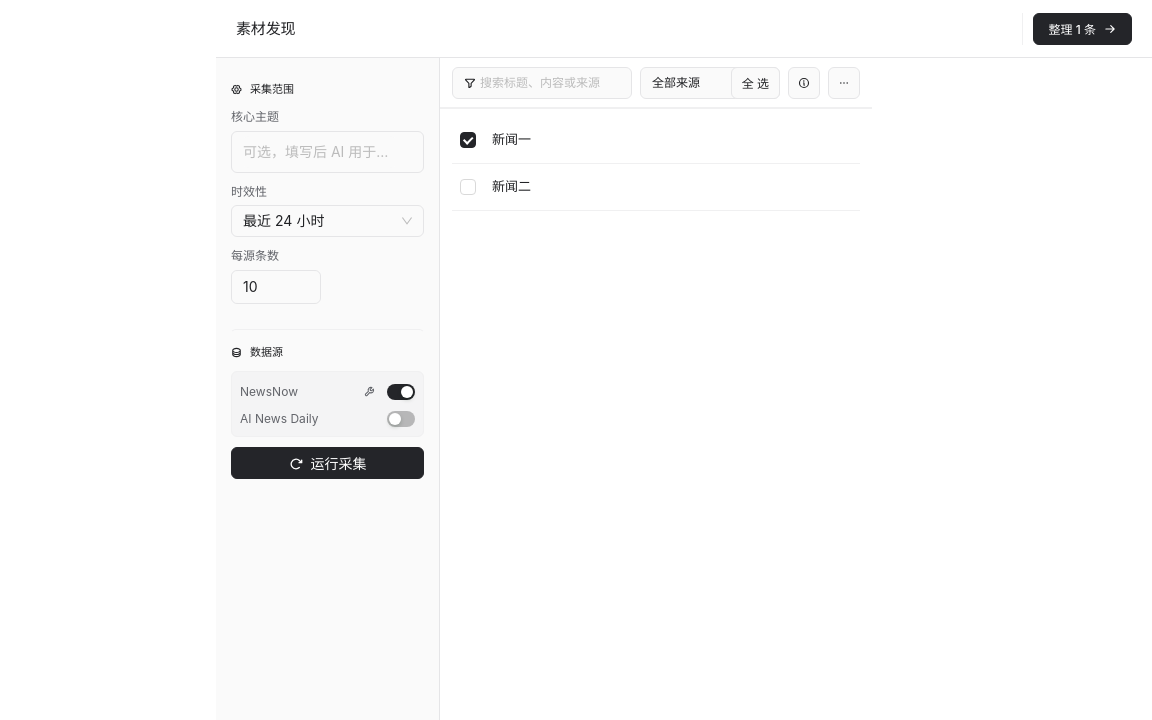
DiscoverPanel source loading › shows result-aware actions and keeps responsive settings accessible
The width and height of the screenshot is (1152, 720).
Expected: the text "NewsNow" is shown, [240, 383, 298, 401]
Expected: the button "整理 1 条" is shown, [1033, 12, 1132, 44]
Click the button "全 选".
click(755, 82)  # box [731, 66, 780, 98]
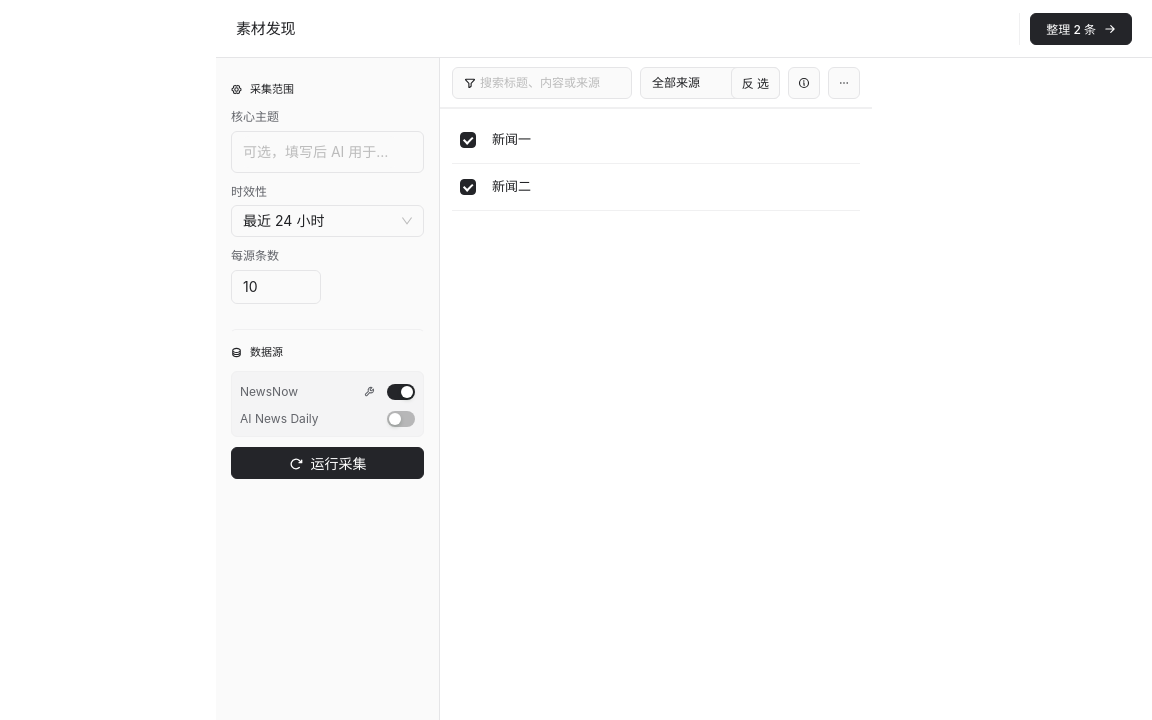
Expected: the button "反 选" is shown
Click the button "反 选".
click(755, 82)  # box [731, 66, 780, 98]
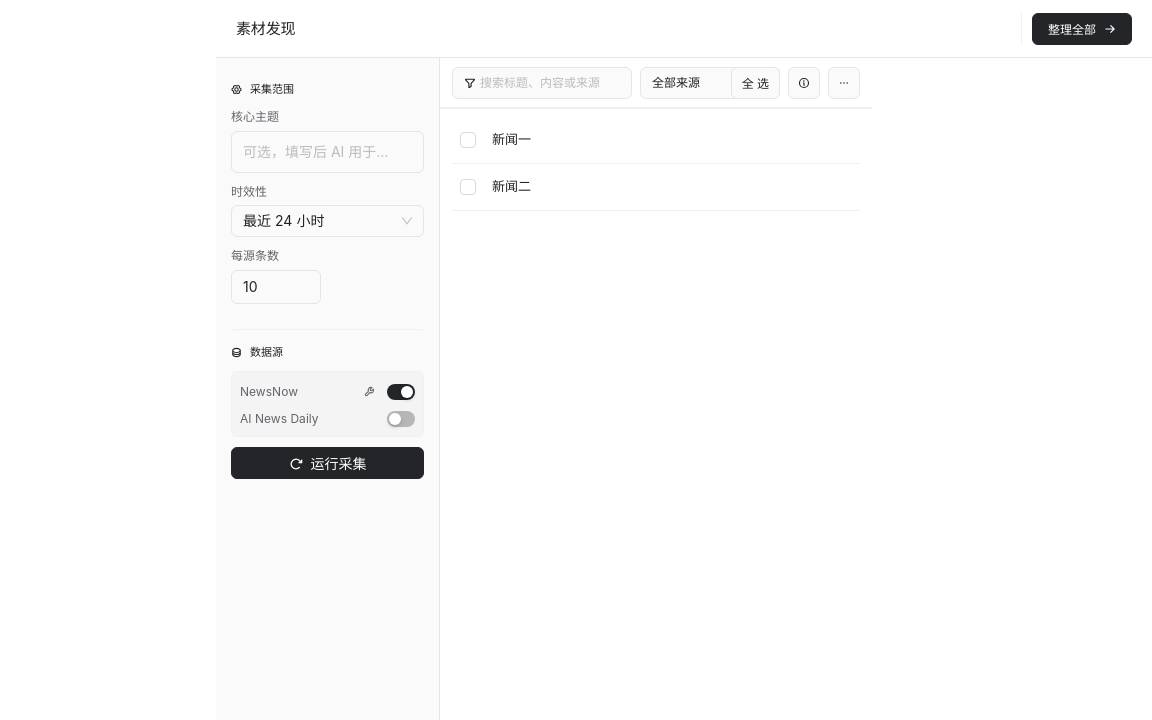
Expected: the button "全 选" is shown, [731, 66, 780, 98]
